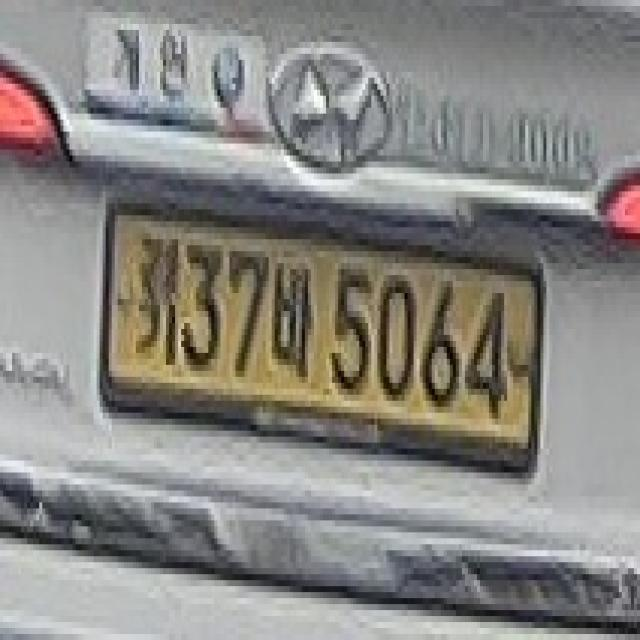plat: (98, 196, 545, 472)
